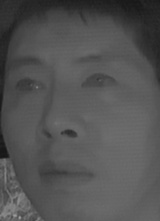eye: (78, 68, 119, 93), (14, 74, 49, 96)
mouth: (33, 158, 97, 193)
